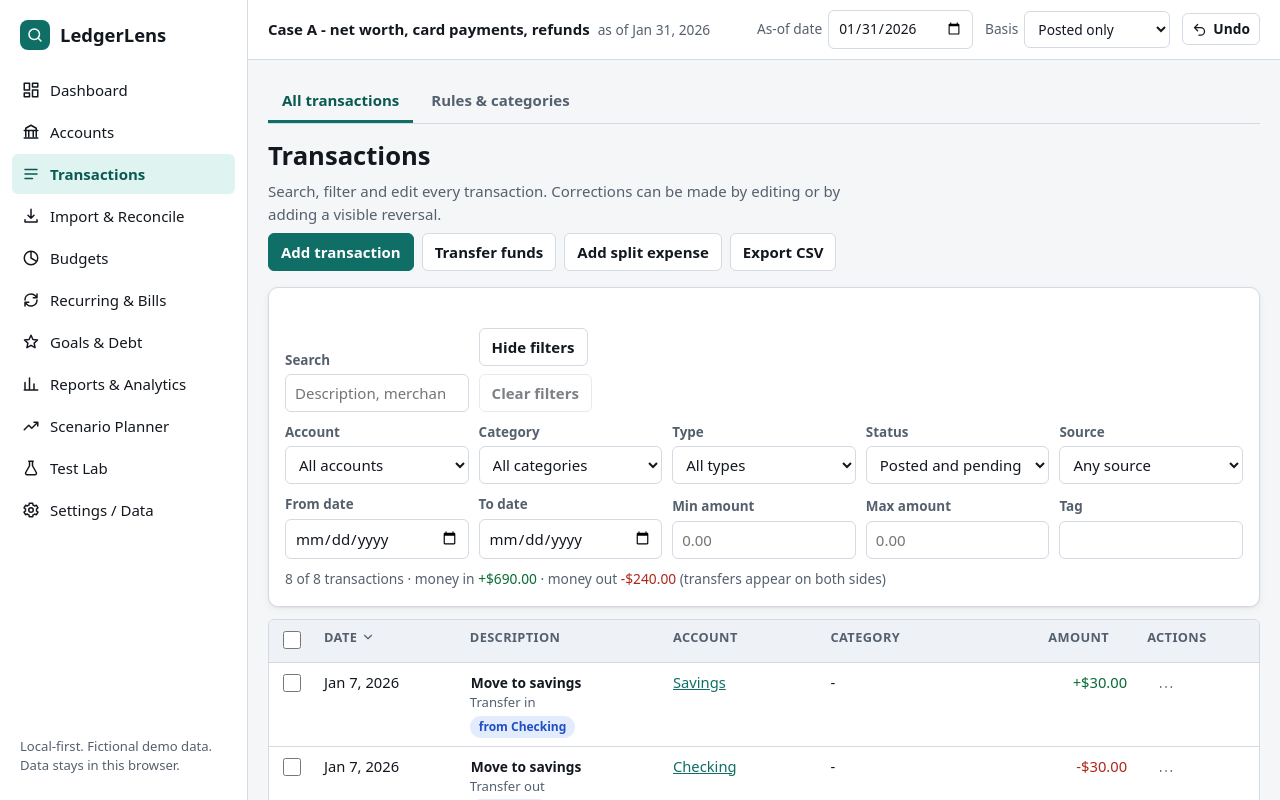
Test: transactions workflow › a transfer through the form leaves net worth unchanged and creates two balanced legs
This screenshot has width=1280, height=800.
Click the button "Transfer funds".
click(489, 252)  # box [422,233,556,271]
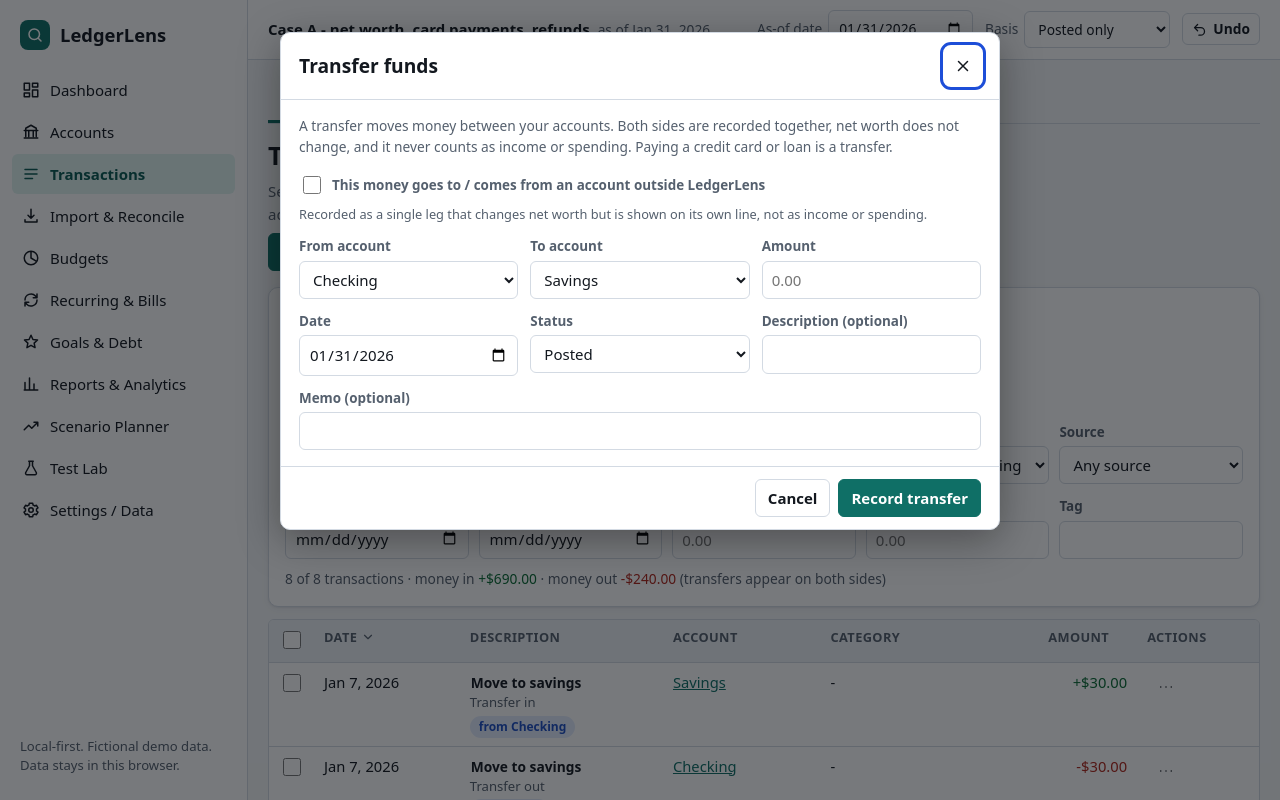
Select "Checking" in the dropdown labelled "From account" at [409, 280], box [299,261,518,299]
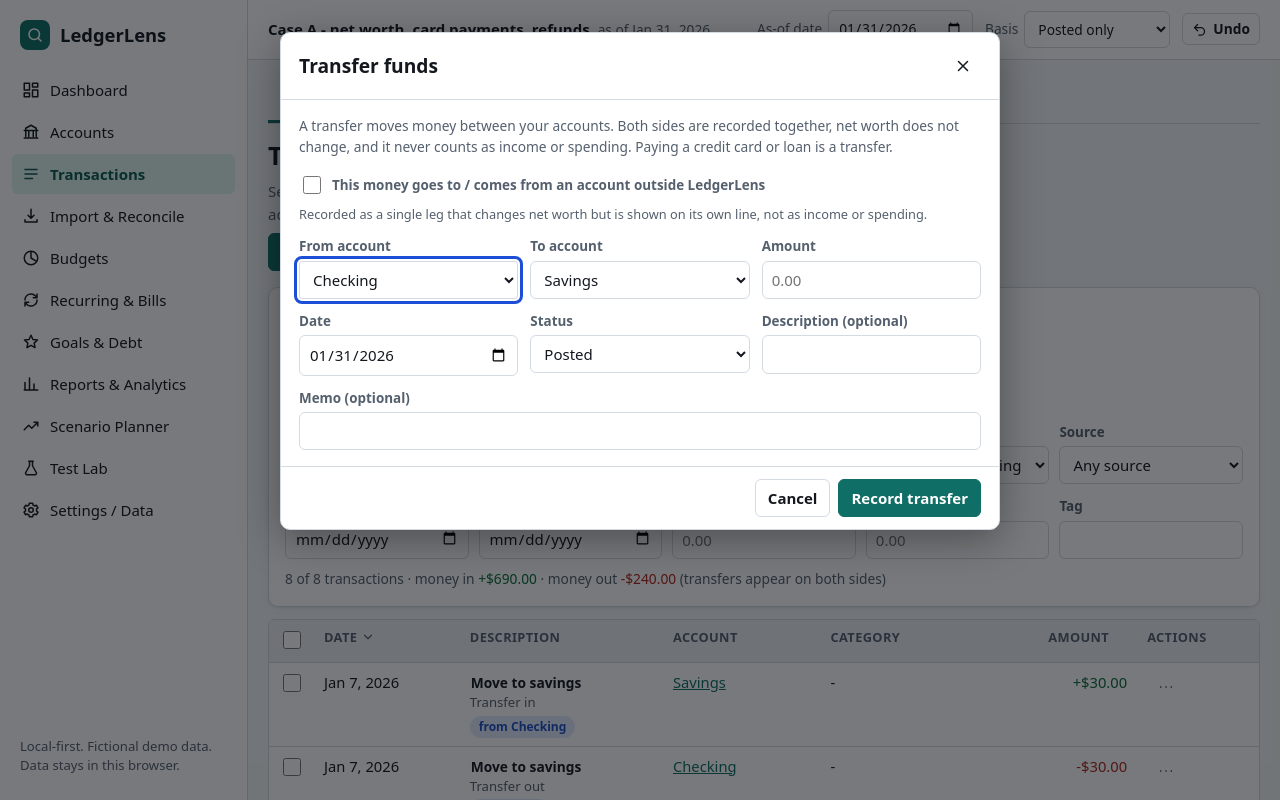
Select "Credit card" in the dropdown labelled "To account" at [640, 280], box [530,261,750,299]
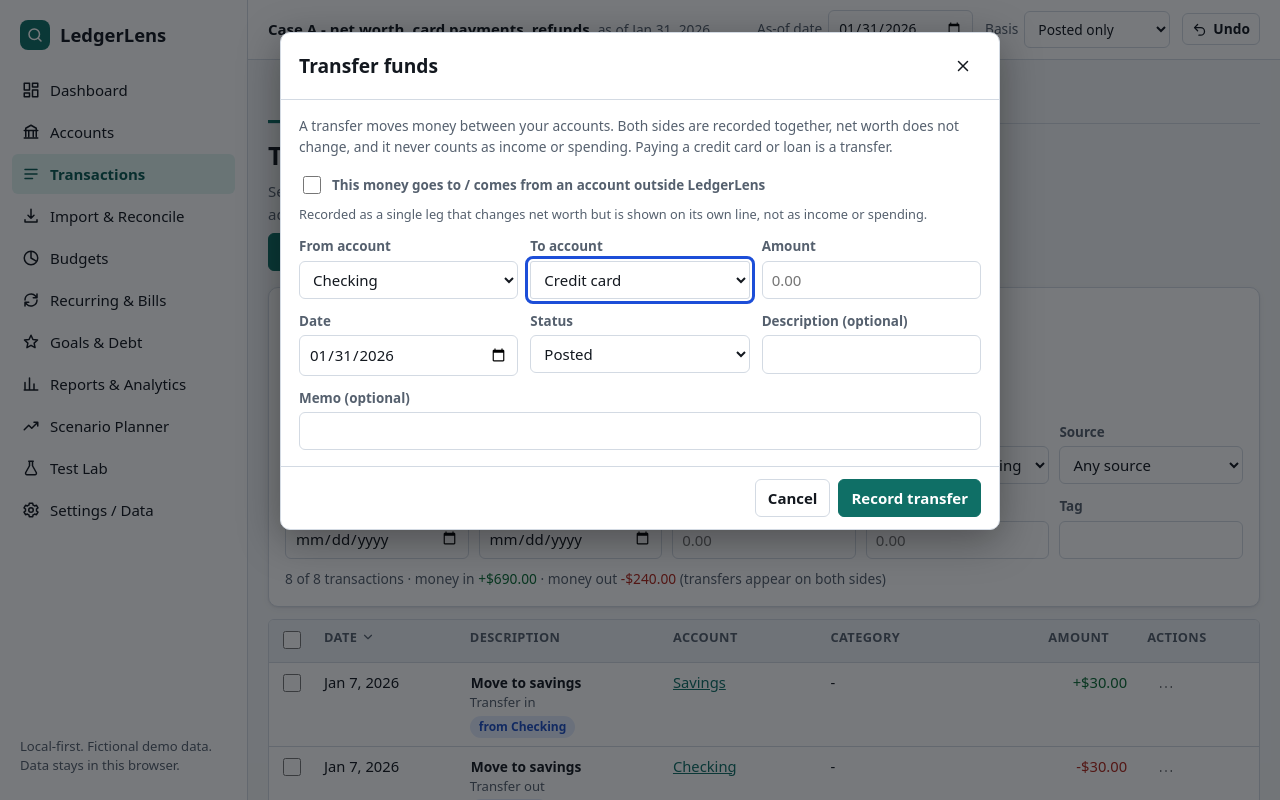
Type "50.00" into the field labelled "Amount".
click(871, 280); type("50.00")  # box [762,261,981,299]
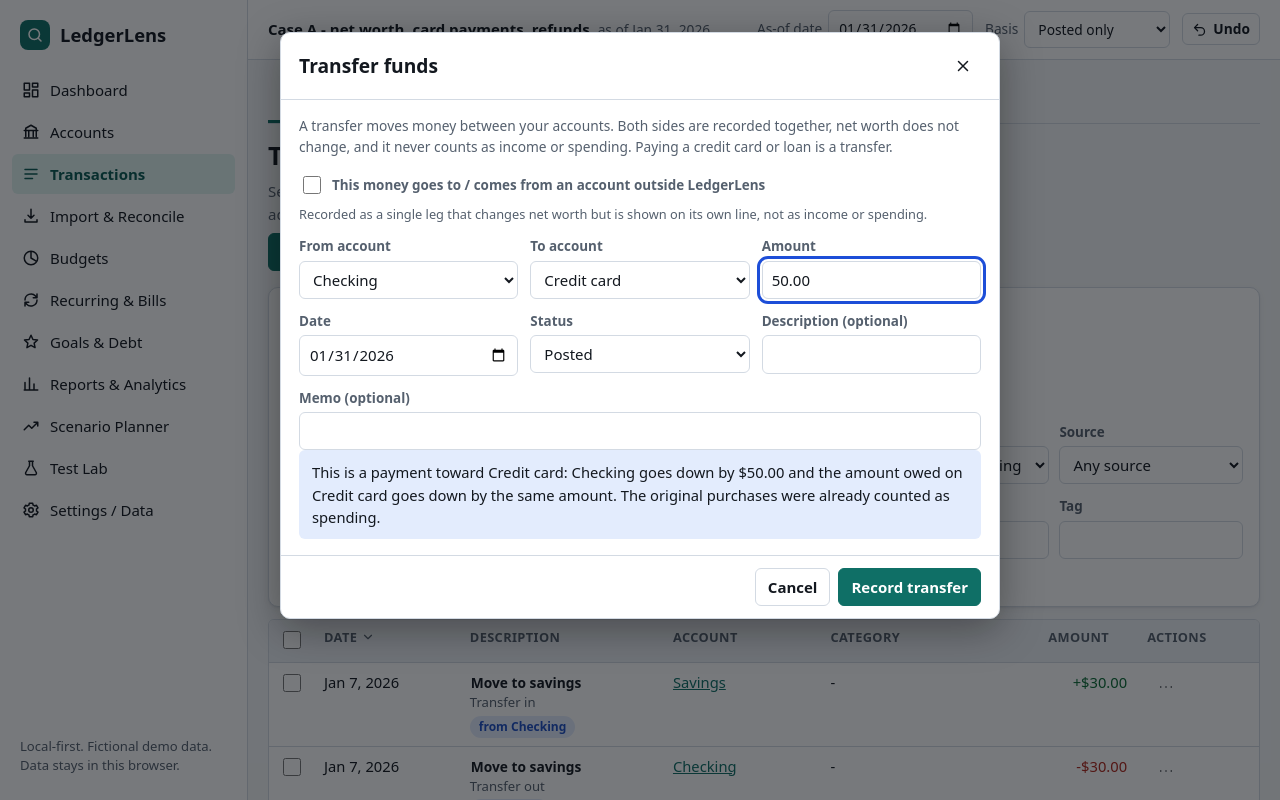
Expected: the text "payment toward Credit card" is shown, [299,450,981,539]
Click the button "Record transfer".
click(910, 587)  # box [838,568,981,606]
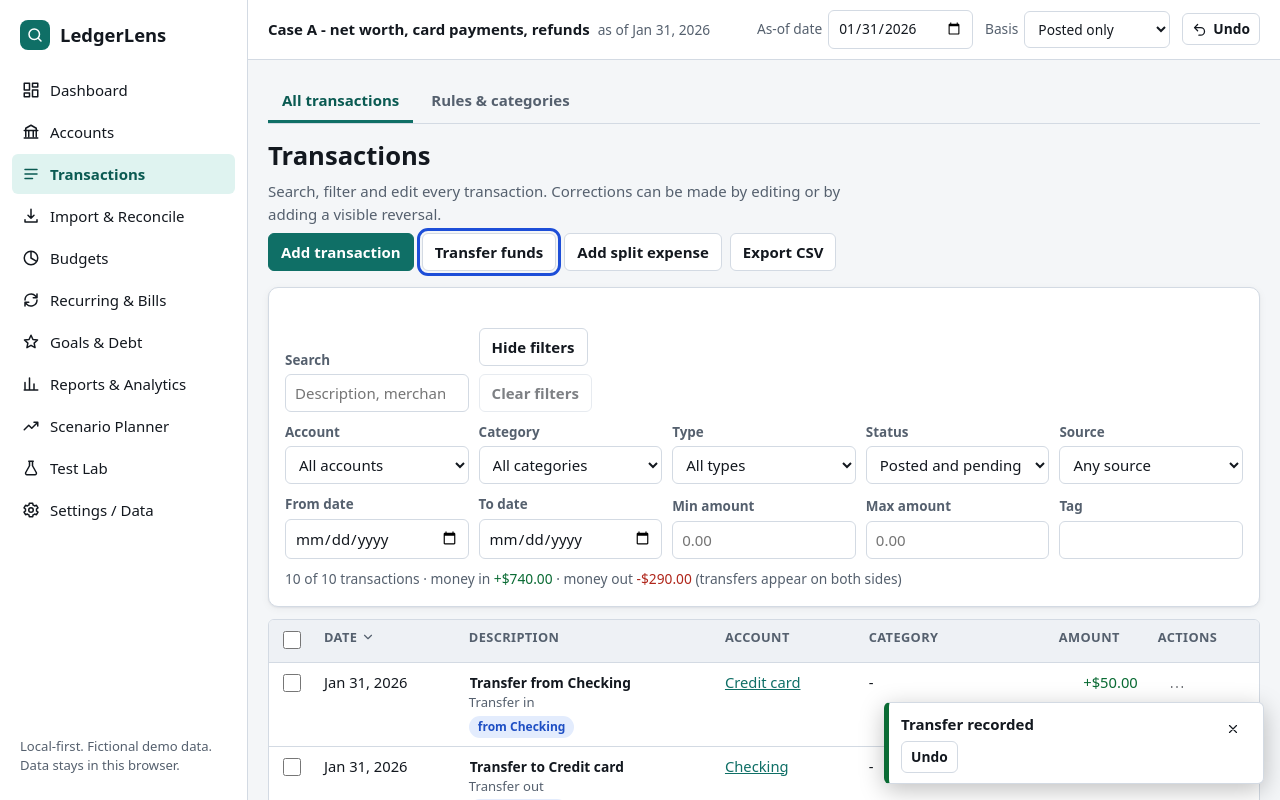
Expected: the dialog is gone
